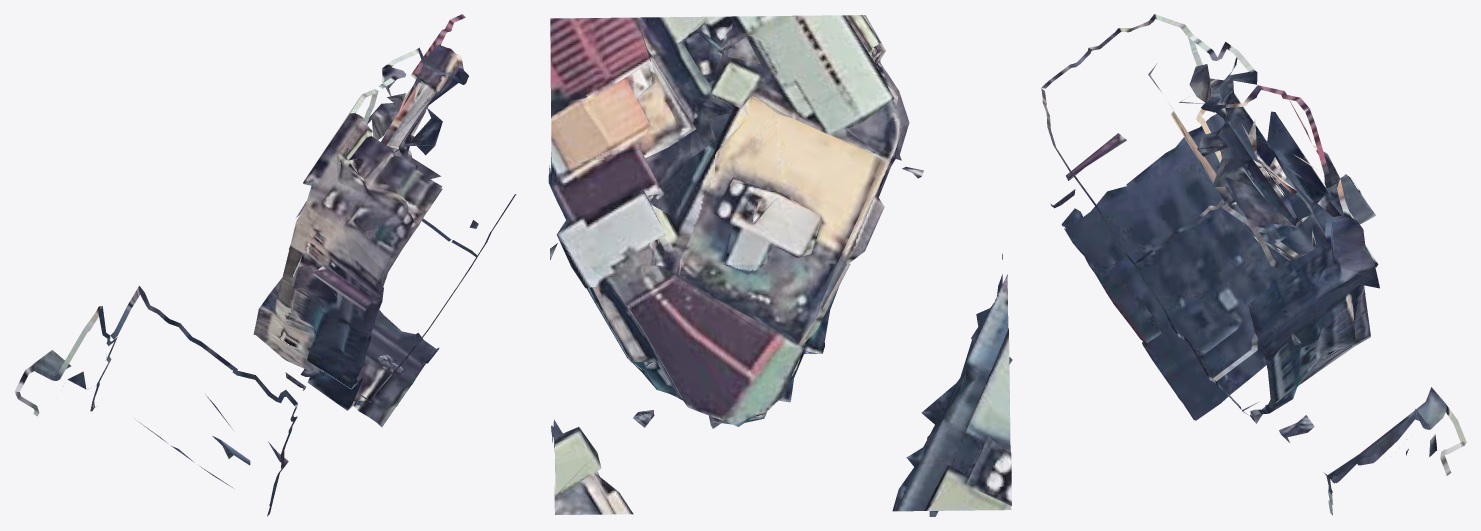
The picture shows the model from 3 angles, left to right: view 1: azimuth 30°, elevation 25°; view 2: azimuth 150°, elevation 25°; view 3: azimuth 270°, elevation 25°; orthographic projection. The views are drawn at different scales.
Size of the model in its own units: 46.39 by 39.91 by 34.33.
Materials: 2 (2 with a texture image).
